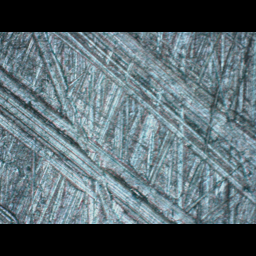d: (49, 32, 255, 204), (0, 67, 198, 223)
